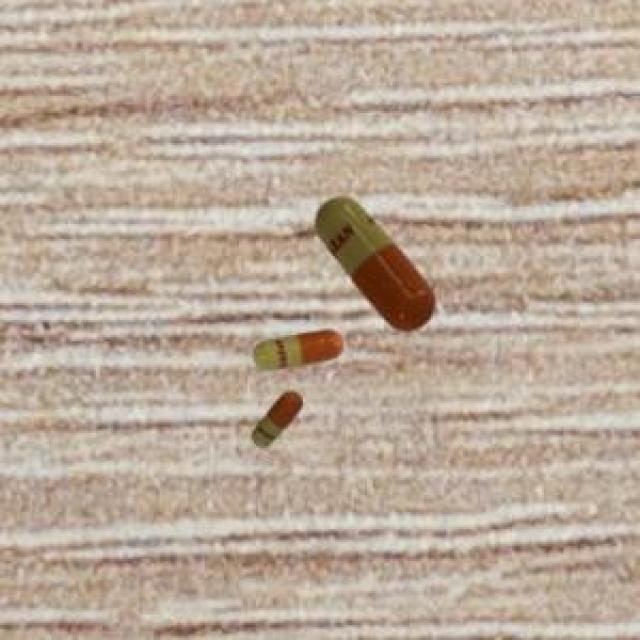Alaxan: (304, 189, 444, 333), (250, 325, 346, 376), (248, 384, 308, 454)
